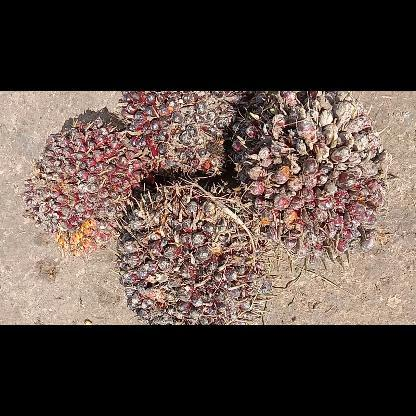Kurang masak: (232, 90, 390, 266), (116, 178, 276, 324), (22, 116, 154, 258), (118, 91, 248, 177)
